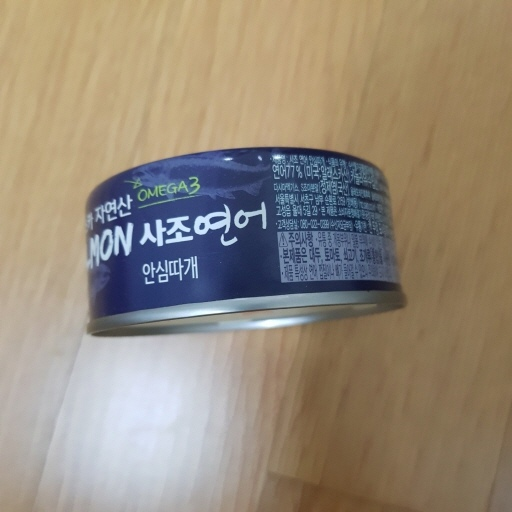Metal_1: (83, 144, 408, 342)
